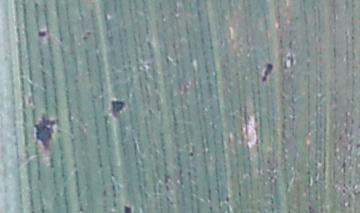tarspot: (31, 112, 57, 151), (108, 98, 126, 119), (260, 62, 274, 83), (282, 51, 295, 71), (81, 30, 92, 43), (36, 29, 49, 38), (121, 204, 133, 213), (340, 160, 348, 173), (113, 73, 122, 83), (163, 56, 171, 65), (146, 107, 155, 115), (174, 57, 181, 67), (72, 77, 80, 85), (305, 168, 313, 176), (313, 169, 320, 178), (165, 183, 171, 193), (224, 195, 231, 203), (236, 190, 243, 198), (349, 34, 356, 42), (340, 187, 347, 195), (265, 157, 272, 165), (208, 43, 215, 51), (33, 2, 40, 9), (306, 204, 313, 211), (336, 135, 343, 142), (312, 178, 320, 184), (188, 151, 194, 158), (312, 160, 317, 168), (355, 142, 360, 149)
